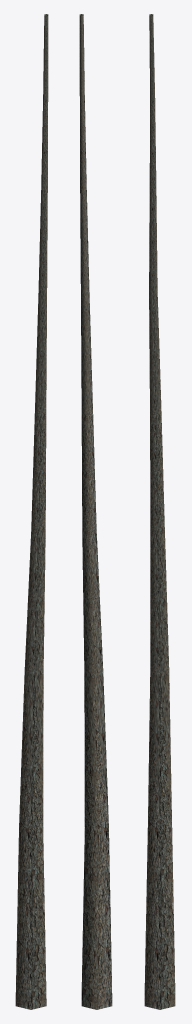
The model's file is trunk.obj.
The picture shows the model from 3 angles, left to right: view 1: azimuth 30°, elevation 25°; view 2: azimuth 210°, elevation 25°; view 3: azimuth 270°, elevation 25°; orthographic projection.
Bounding box in the file's own units: 0.13 × 3.99 × 0.1126.
1 material, 1 textured.
